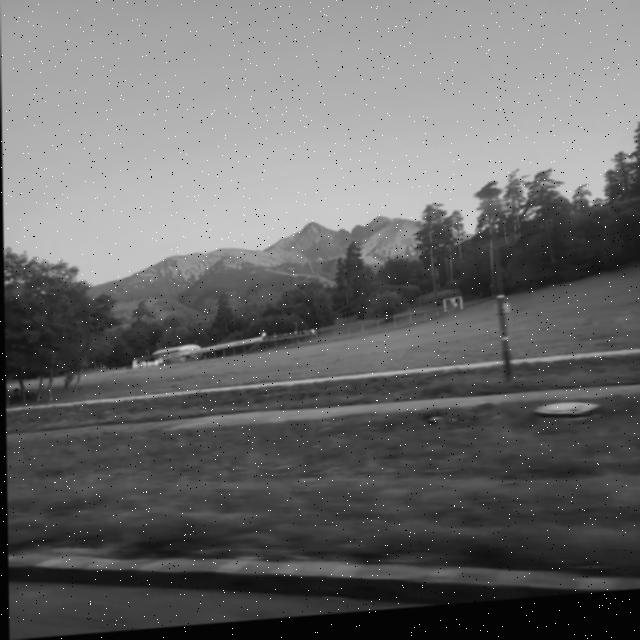Kezmarsky Stit: (305, 174, 456, 265)
Lomnicki Stit: (251, 177, 374, 272)
